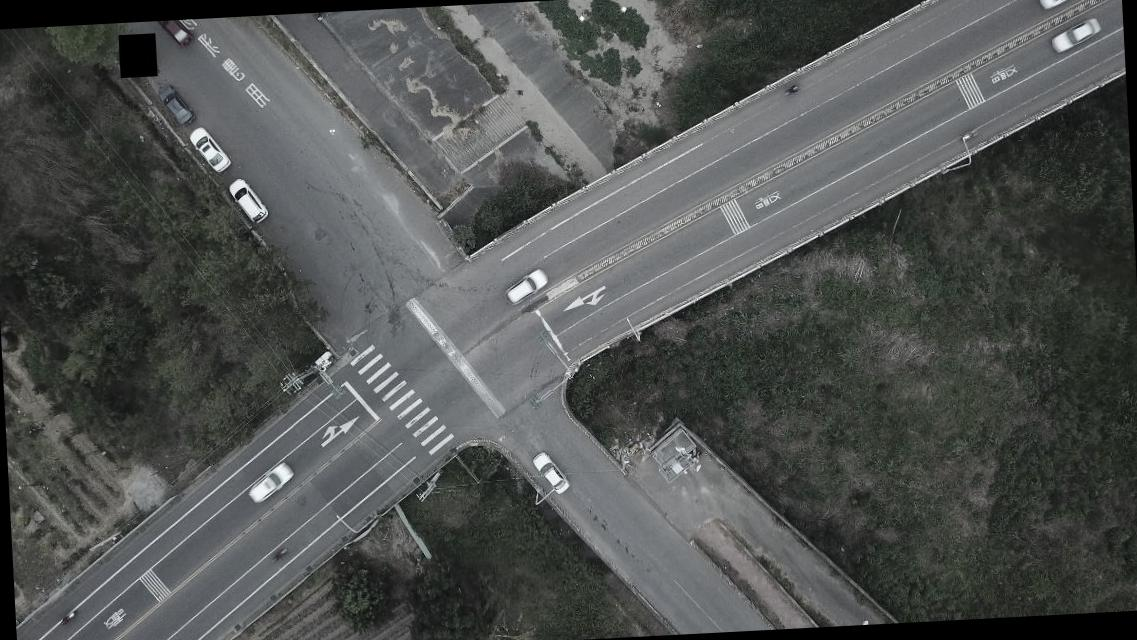vehicle: (188, 122, 231, 174), (1048, 16, 1103, 54), (501, 267, 551, 307), (246, 463, 295, 503), (154, 82, 196, 128), (228, 178, 266, 226), (530, 452, 568, 497), (159, 19, 193, 50), (1033, 0, 1095, 12)
